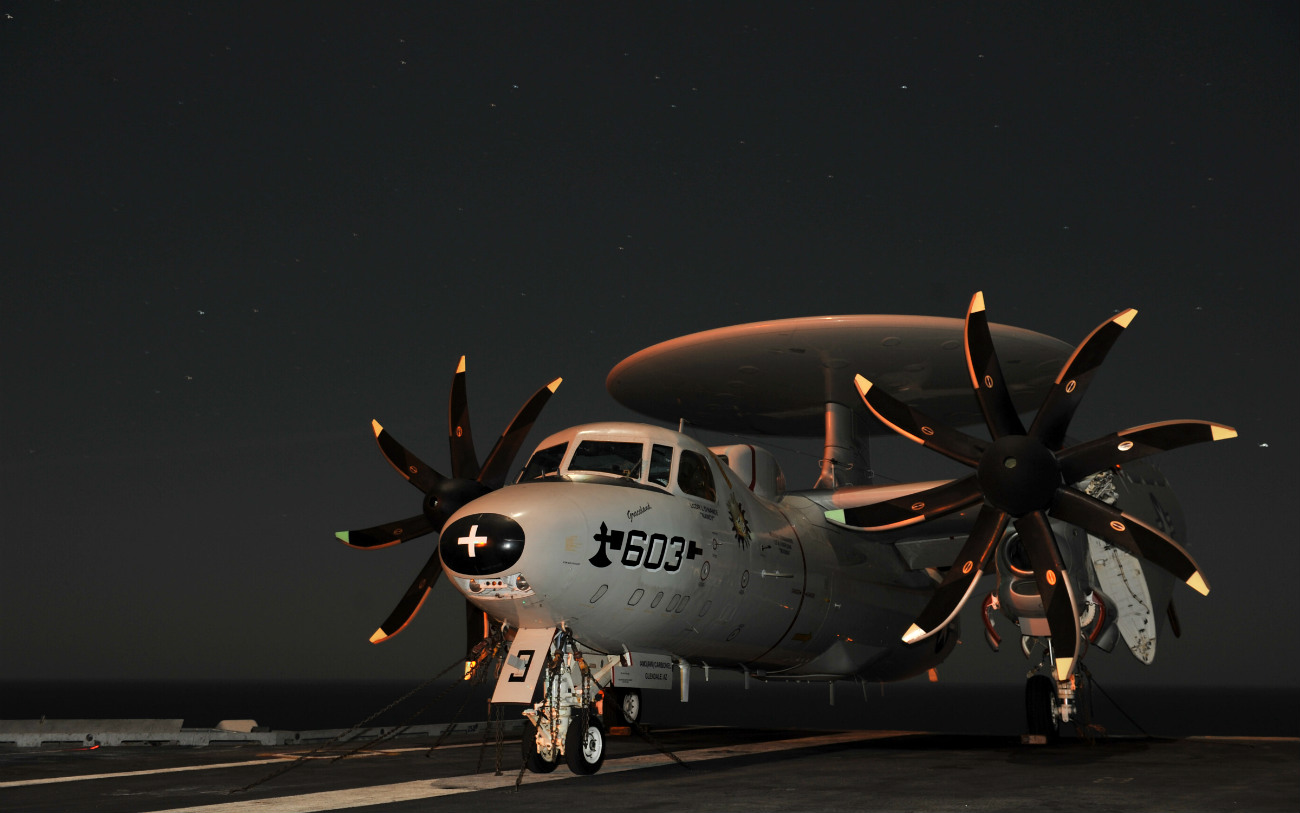E2: (333, 290, 1238, 774)
